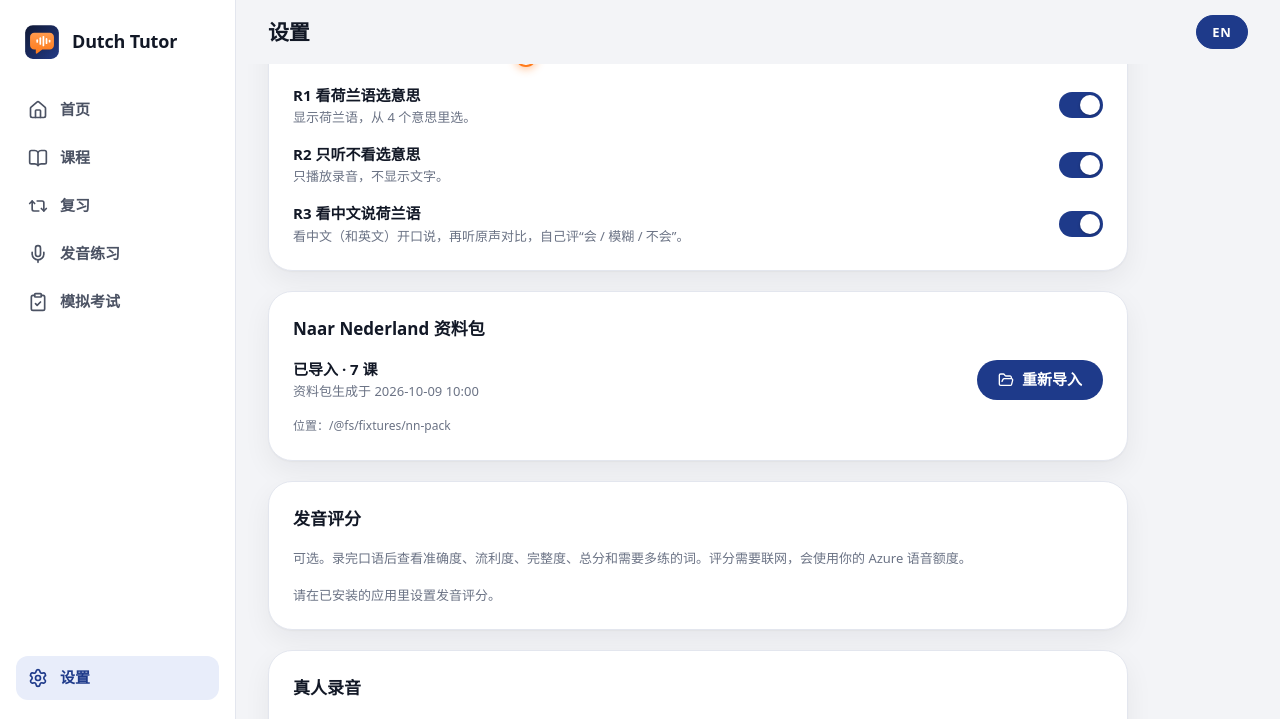
it: 资料包 settings › shows a Chinese message when the format version is not supported
The width and height of the screenshot is (1280, 719).
(page scrolled)
Click the button "重新导入". click: (1040, 380)
box: [977, 360, 1103, 400]
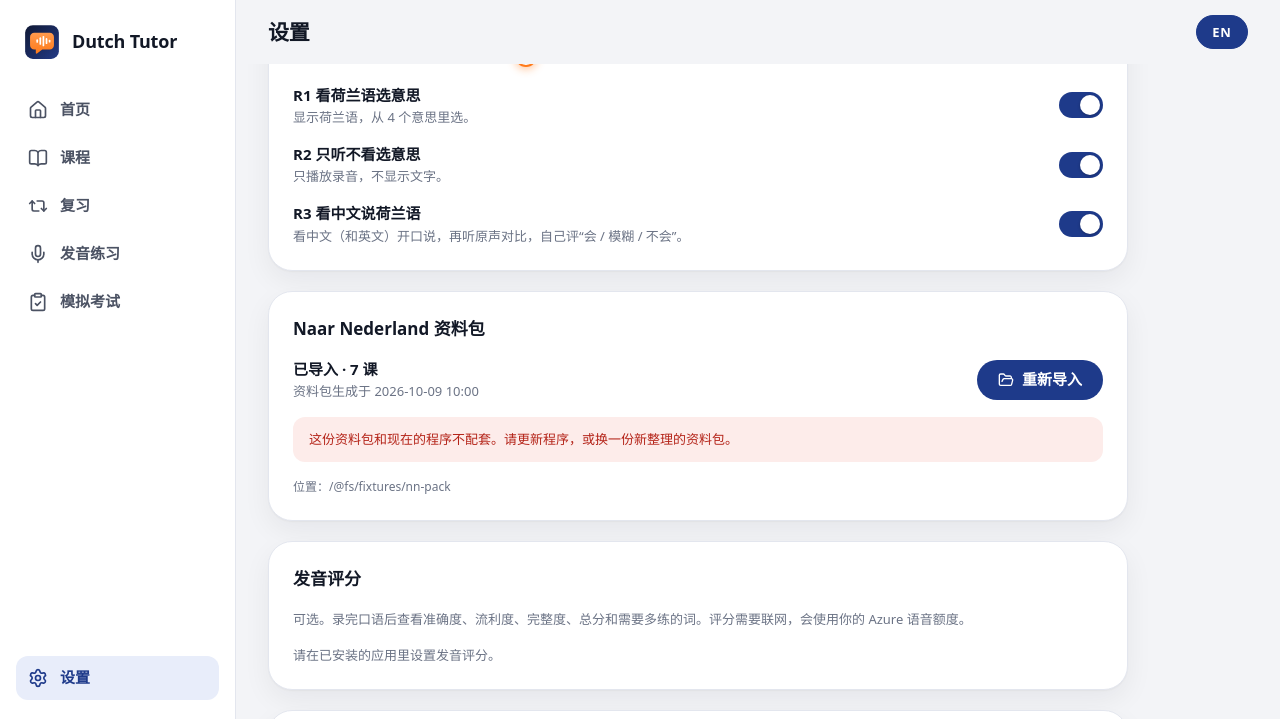
Expected: the message shows "和现在的程序不配套", [309, 430, 738, 448]
